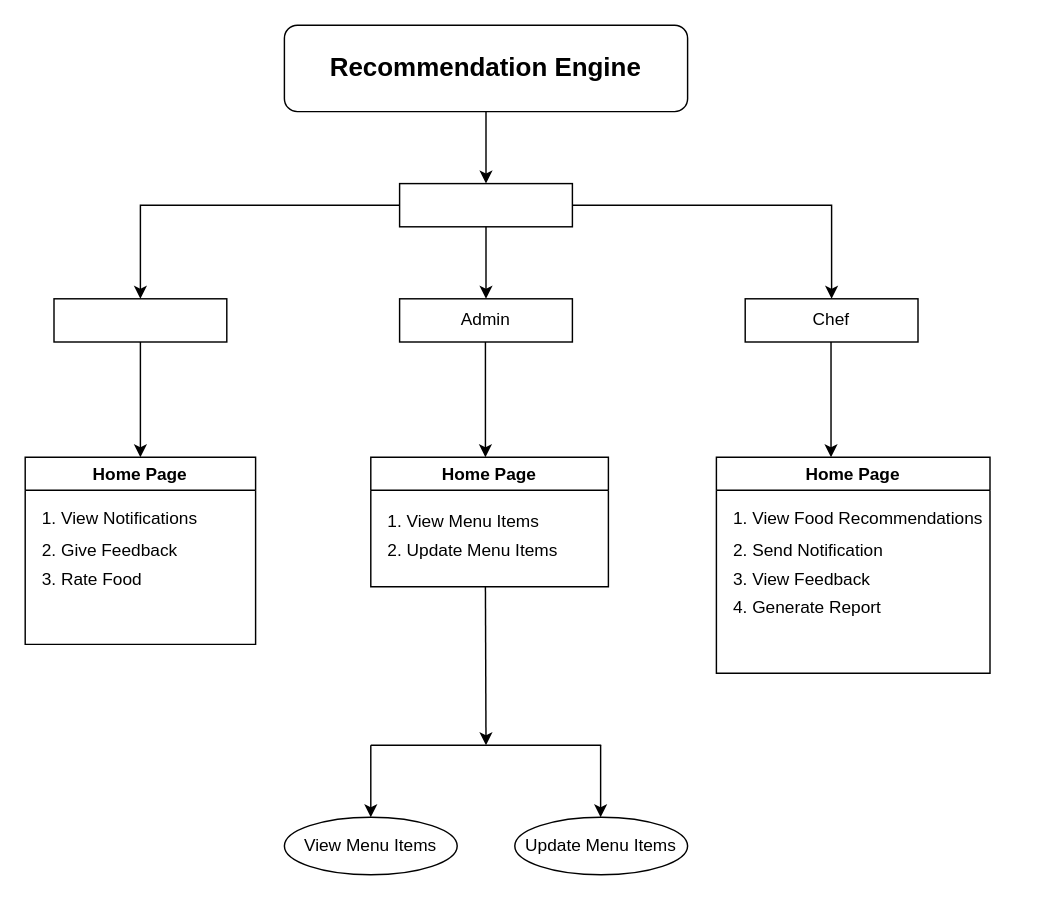
The diagram is 1044 pixels wide and 900 high, and some of its shapes have lost their labels. Each missing label, with the centre of its shape:
Employee: the point at 140,319
User Login: the point at 485,204
